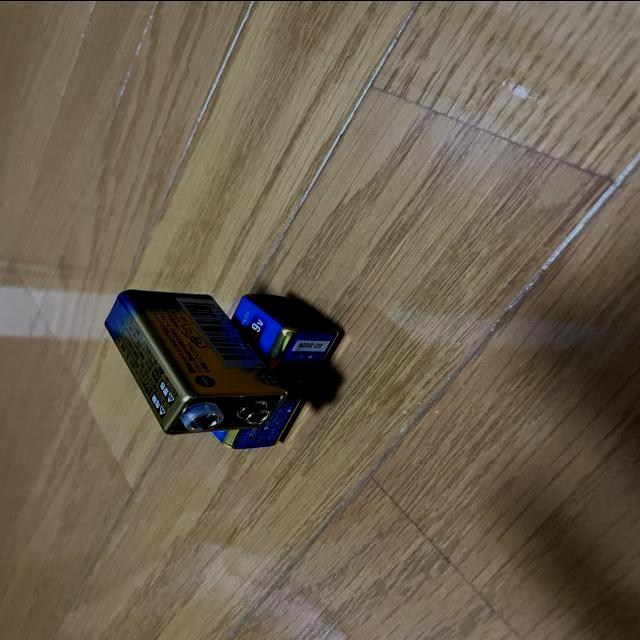9V: (105, 286, 290, 435), (206, 290, 343, 448)
